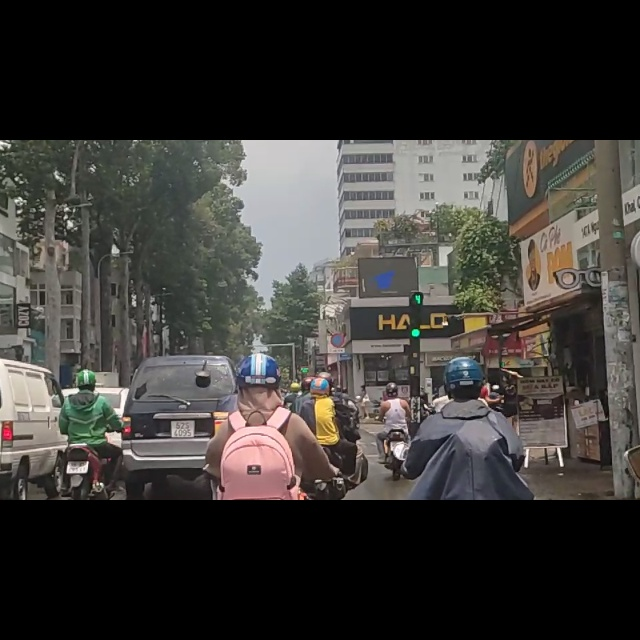bien_cam: (329, 341, 345, 369)
